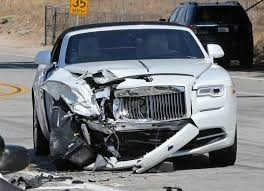Broken-glass: (212, 86, 223, 96)
Smashed: (52, 67, 166, 170)
